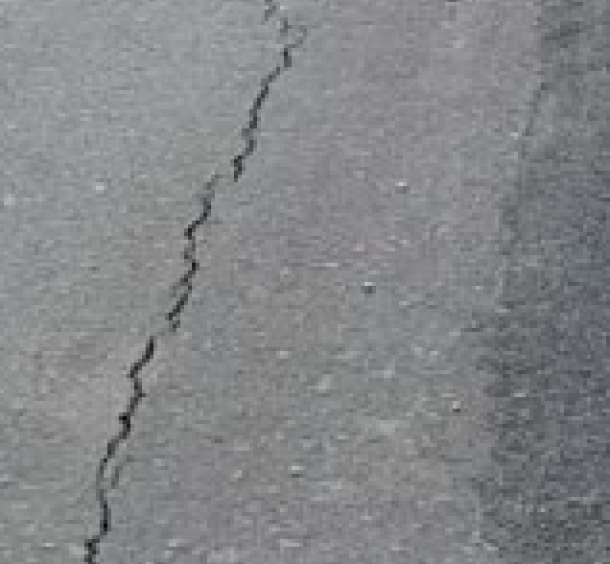Retak Memanjang: (78, 1, 298, 564)
